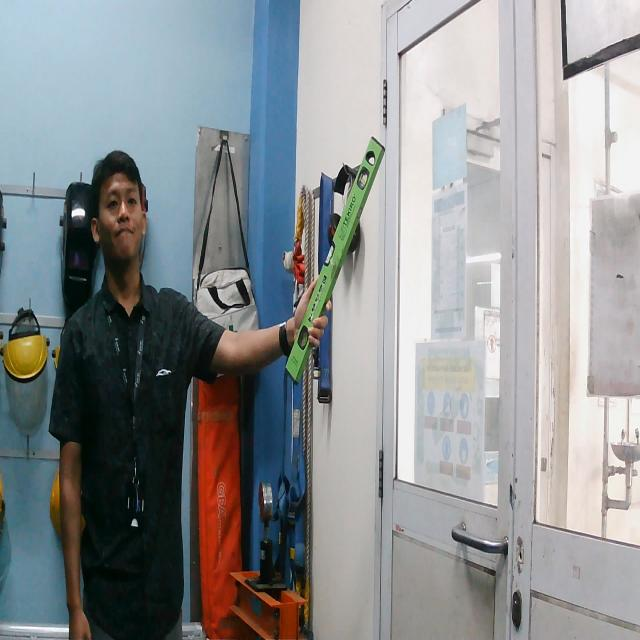water_pass: (279, 130, 389, 393)
